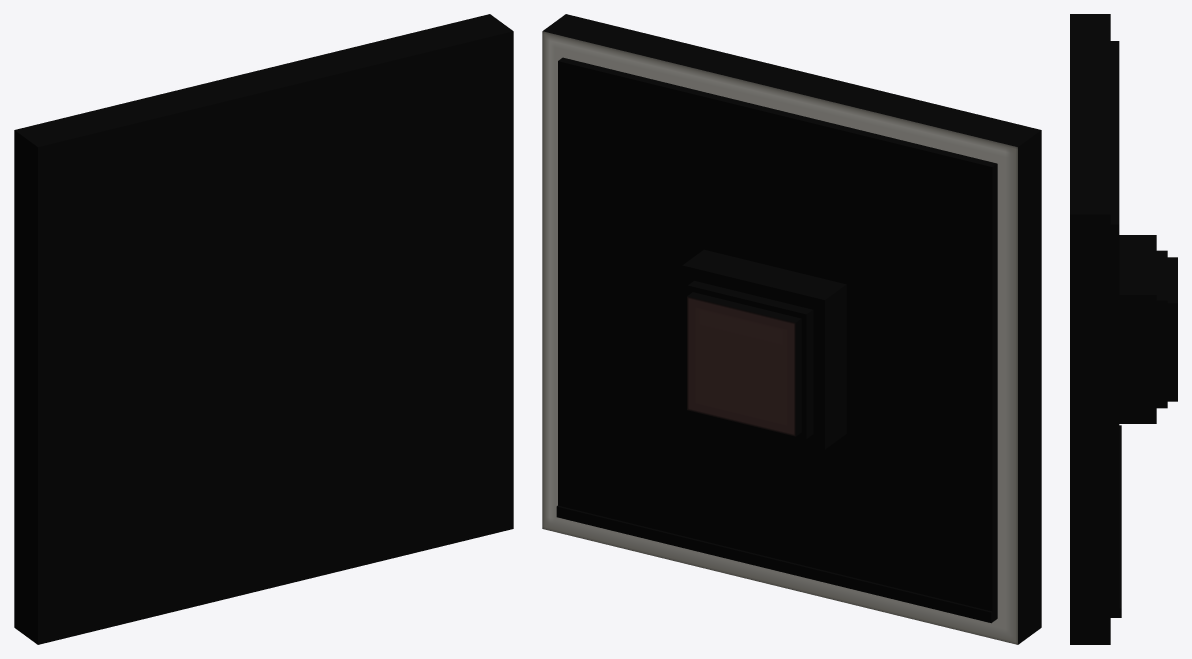
The model's file is indicator_green_off.obj.
The picture shows the model from 3 angles, left to right: view 1: azimuth 30°, elevation 25°; view 2: azimuth 150°, elevation 25°; view 3: azimuth 270°, elevation 25°; orthographic projection. The views are drawn at different scales.
Visible parts, largest first — view 1: Panel; view 2: Panel, Lamp; view 3: Panel, Lamp.
Boxes of the visible parts, x1,y1,x2,y2 form: Panel: (14,14,513,644); Panel: (542,14,1041,644); Lamp: (682,249,846,449); Panel: (1070,14,1121,644); Lamp: (1119,235,1177,423).
Size of the model in its own units: 0.875 by 0.875 by 0.1988.
